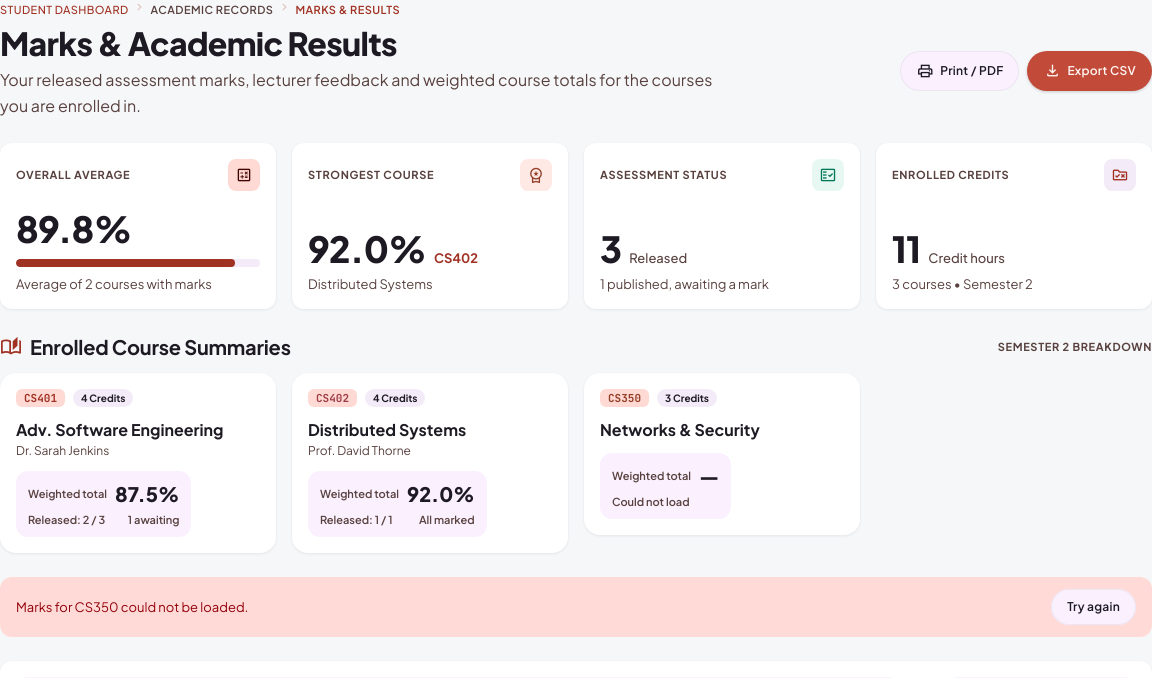
student marks › one course failing does not hide the others and can be retried
Check: the message shows "Marks for CS350 could not be loaded.", box [0,577,1151,637]
Click the button "Try again": (1094, 607) [1051,589,1136,625]
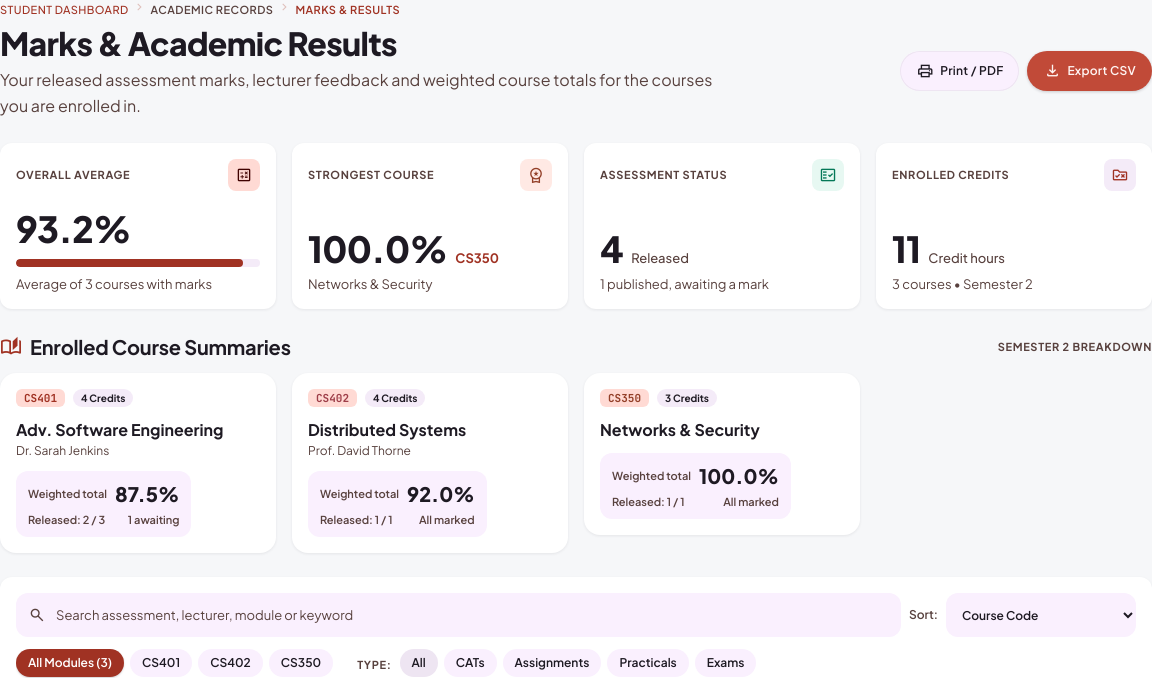
Check: the message "Marks for CS350 could not be loaded. Try again" is gone
